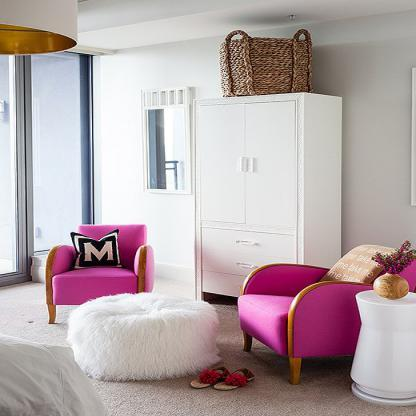bed: (0, 339, 96, 415)
chair: (229, 237, 416, 384), (25, 213, 156, 329)
light: (0, 0, 80, 58)
table: (353, 287, 416, 409)
